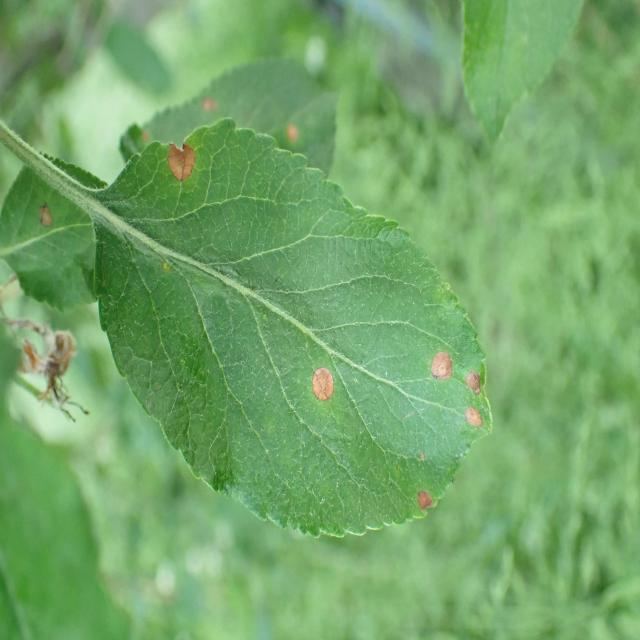Black Rot: (295, 343, 340, 447), (164, 117, 205, 199), (421, 333, 459, 402), (411, 458, 436, 530), (461, 361, 490, 406), (459, 406, 488, 441)
